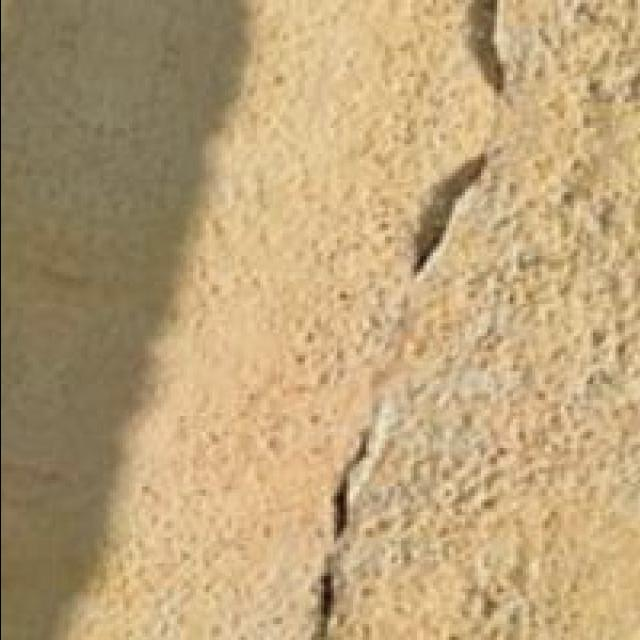SurfaceCrack: (254, 386, 390, 640), (408, 0, 524, 258)
